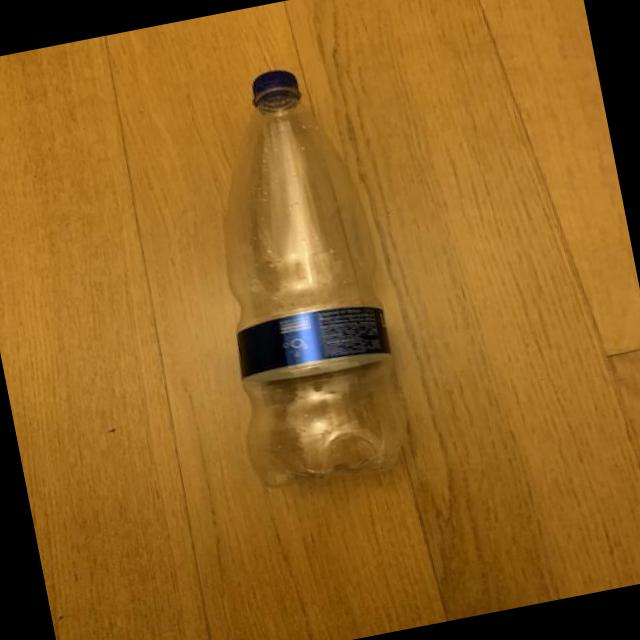plastic_bottle: (180, 58, 416, 496)
